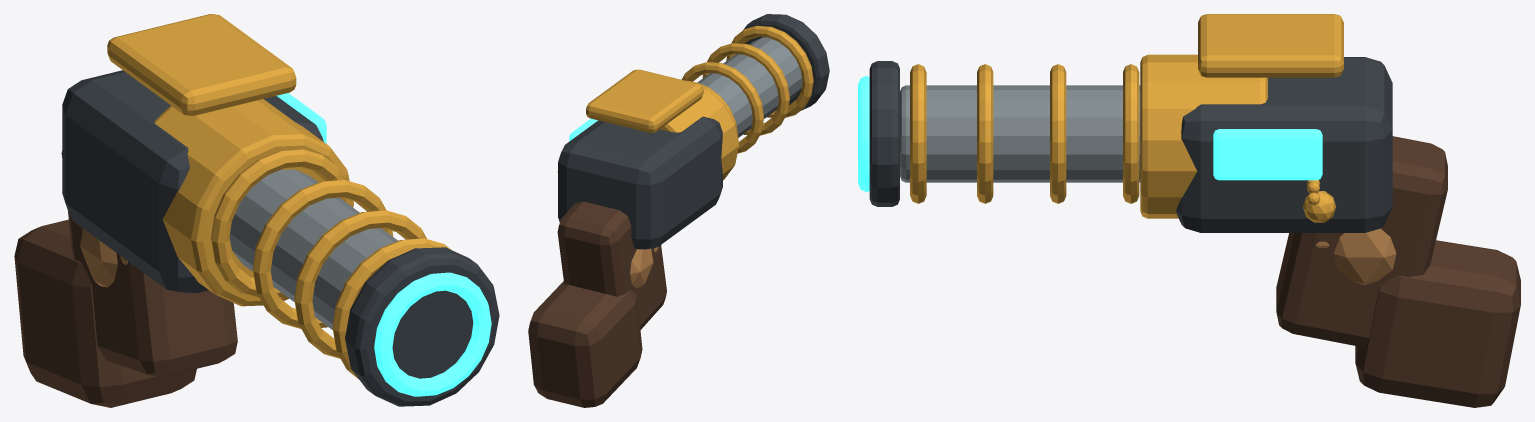
The model's file is fetch_launcher_viewmodel.glb.
3 renders of one model, left to right at view 1: azimuth 30°, elevation 25°; view 2: azimuth 150°, elevation 25°; view 3: azimuth 270°, elevation 25°, orthographic. The views are drawn at different scales.
Parts seen in each view (by area): view 1: FetchReceiver, CobieLeatherSleeve.002, FetchDrum, FetchMuzzle, FetchGrip, FetchCarryHandle, FetchBarrel, FetchMuzzleGlow, FetchBarrelCage, FetchBarrelCage.001, FetchBarrelCage.002, FetchBarrelCage.003 (+2 smaller); view 2: FetchReceiver, CobieLeatherSleeve.002, FetchGrip, FetchCarryHandle, FetchBarrel, FetchMuzzle, FetchDrum, FetchBarrelCage.002, FetchBarrelCage.003, FetchBarrelCage.001, CobieGripPaw.002; view 3: FetchReceiver, CobieLeatherSleeve.002, FetchBarrel, FetchGrip, FetchDrum, FetchCarryHandle, FetchChargeMeter, FetchMuzzle, CobieGripPaw.002, FetchBarrelCage.003, FetchBarrelCage, FetchBarrelCage.001 (+3 smaller).
Boxes of the visible parts, bbox=[...] form: FetchReceiver: bbox=[62, 70, 323, 293]; CobieLeatherSleeve.002: bbox=[14, 219, 196, 407]; FetchDrum: bbox=[154, 99, 353, 306]; FetchMuzzle: bbox=[345, 247, 499, 406]; FetchGrip: bbox=[61, 151, 237, 377]; FetchCarryHandle: bbox=[107, 14, 296, 115]; FetchBarrel: bbox=[229, 169, 397, 329]; FetchMuzzleGlow: bbox=[374, 272, 491, 396]; FetchBarrelCage: bbox=[211, 149, 351, 298]; FetchBarrelCage.001: bbox=[252, 180, 393, 328]; FetchBarrelCage.002: bbox=[294, 210, 426, 358]; FetchBarrelCage.003: bbox=[332, 238, 450, 378]; FetchReceiver: bbox=[558, 116, 722, 249]; CobieLeatherSleeve.002: bbox=[528, 281, 642, 407]; FetchGrip: bbox=[557, 201, 666, 329]; FetchCarryHandle: bbox=[586, 69, 703, 132]; FetchBarrel: bbox=[697, 37, 802, 137]; FetchMuzzle: bbox=[743, 14, 829, 110]; FetchDrum: bbox=[660, 81, 739, 180]; FetchBarrelCage.002: bbox=[702, 43, 789, 135]; FetchBarrelCage.003: bbox=[726, 25, 813, 117]; FetchBarrelCage.001: bbox=[681, 62, 763, 153]; CobieGripPaw.002: bbox=[630, 248, 653, 288]; FetchReceiver: bbox=[1176, 57, 1392, 232]; CobieLeatherSleeve.002: bbox=[1355, 240, 1520, 407]; FetchBarrel: bbox=[900, 85, 1140, 182]; FetchGrip: bbox=[1276, 136, 1447, 347]; FetchDrum: bbox=[1140, 54, 1267, 218]; FetchCarryHandle: bbox=[1198, 14, 1343, 77]; FetchChargeMeter: bbox=[1213, 129, 1322, 180]; FetchMuzzle: bbox=[869, 61, 899, 206]; CobieGripPaw.002: bbox=[1333, 228, 1396, 284]; FetchBarrelCage.003: bbox=[910, 64, 926, 203]; FetchBarrelCage: bbox=[1123, 64, 1139, 203]; FetchBarrelCage.001: bbox=[1050, 64, 1066, 203].
Size of the model in its own units: 0.6559 by 1.3 by 2.18.
